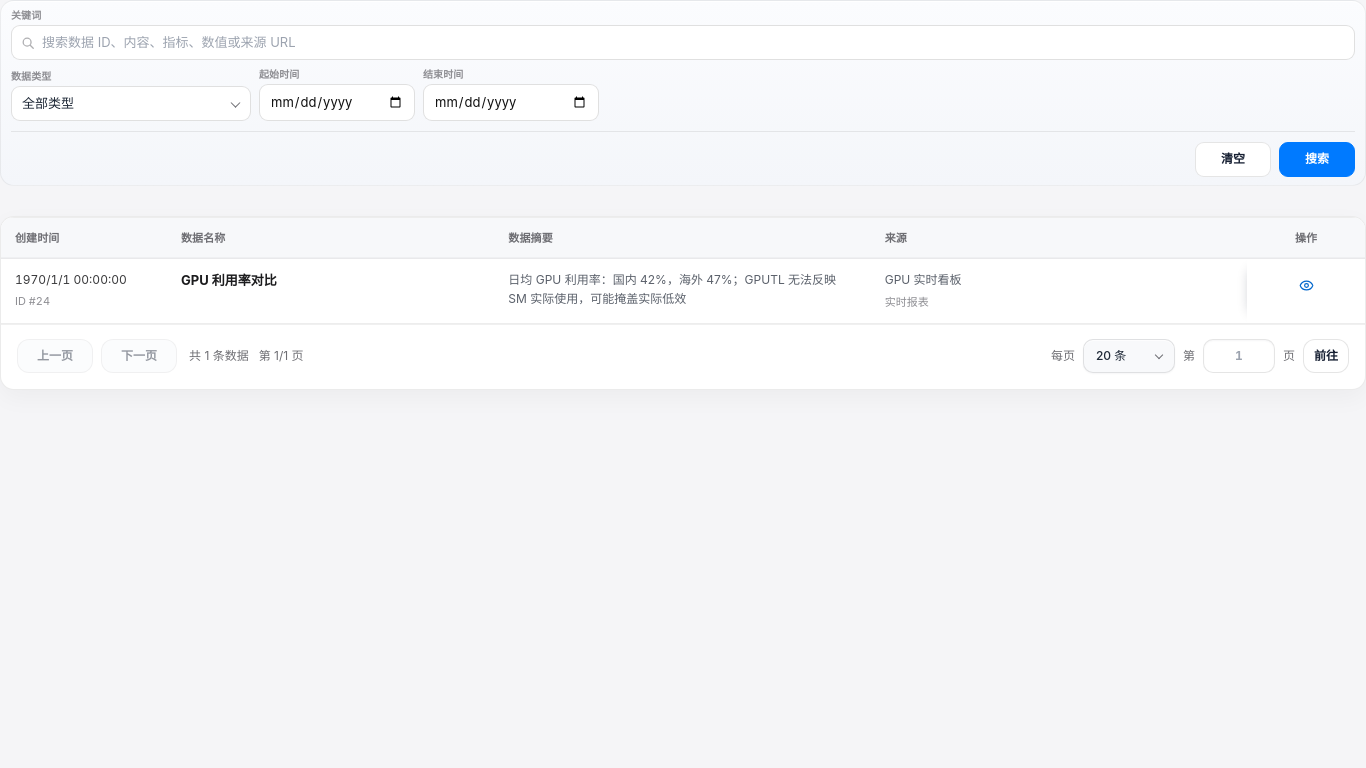
it: BakeDataTab › 网页来源的数据记录并展示来源网址
The image size is (1366, 768).
Click the button named "查看数据：GPU 利用率对比".
click(1306, 285)  # box [1292,271,1320,299]
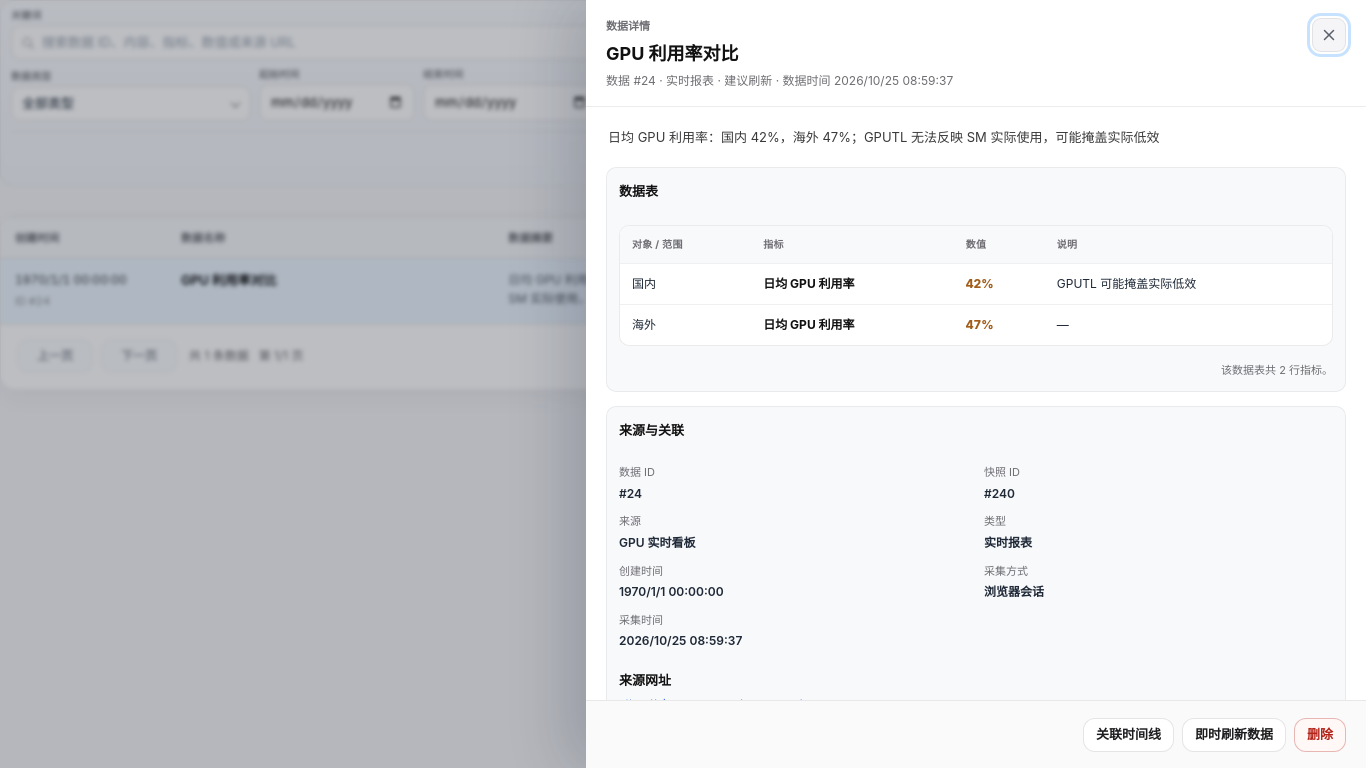
Result: the text "来源网址" is shown at [619,672,671,688]
